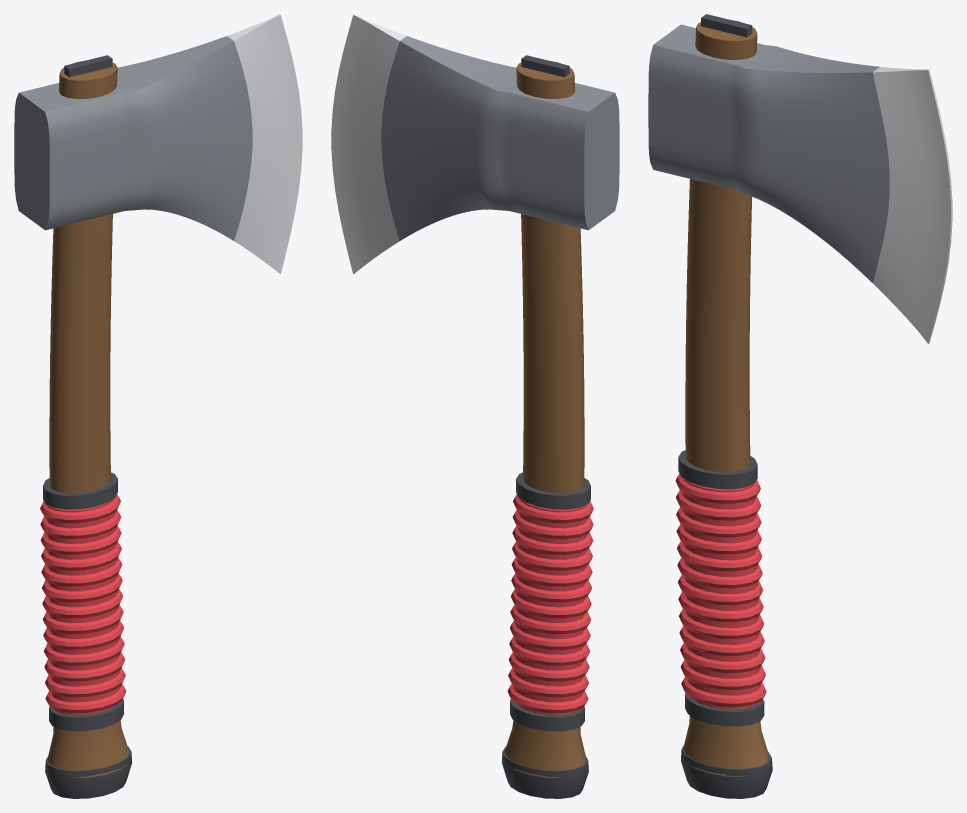
File: ThrowingAxe.fbx
The picture shows the model from 3 angles, left to right: view 1: azimuth 30°, elevation 25°; view 2: azimuth 150°, elevation 25°; view 3: azimuth 330°, elevation 25°; orthographic projection. The views are drawn at different scales.
Parts seen in each view (by area): view 1: ThrowingAxe; view 2: ThrowingAxe; view 3: ThrowingAxe.
Part boxes in pixels (box(x1,y1,x2,y2)): ThrowingAxe: box(14, 14, 302, 798); ThrowingAxe: box(331, 14, 619, 798); ThrowingAxe: box(648, 14, 952, 798).
Bounding box in the file's own units: 0.1239 × 0.318 × 0.0308.
